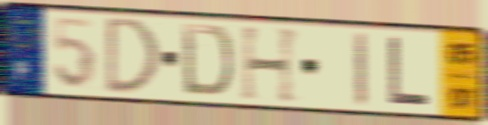5: (51, 14, 100, 93)
D: (103, 15, 164, 97), (179, 21, 236, 100)
H: (238, 24, 303, 106)
I: (352, 30, 369, 110)
L: (386, 34, 432, 110)
